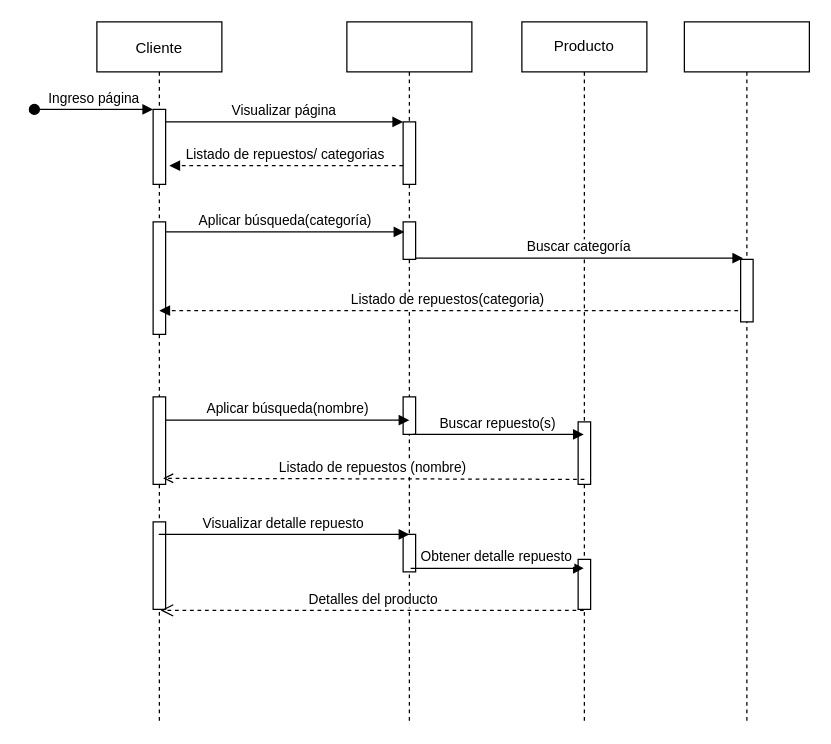
Image size: 831x744. Some labels were removed from this diagram. Each missing label, with the box of its shape:
Categoria: (683, 21, 809, 722)
Sistema: (346, 21, 472, 722)
